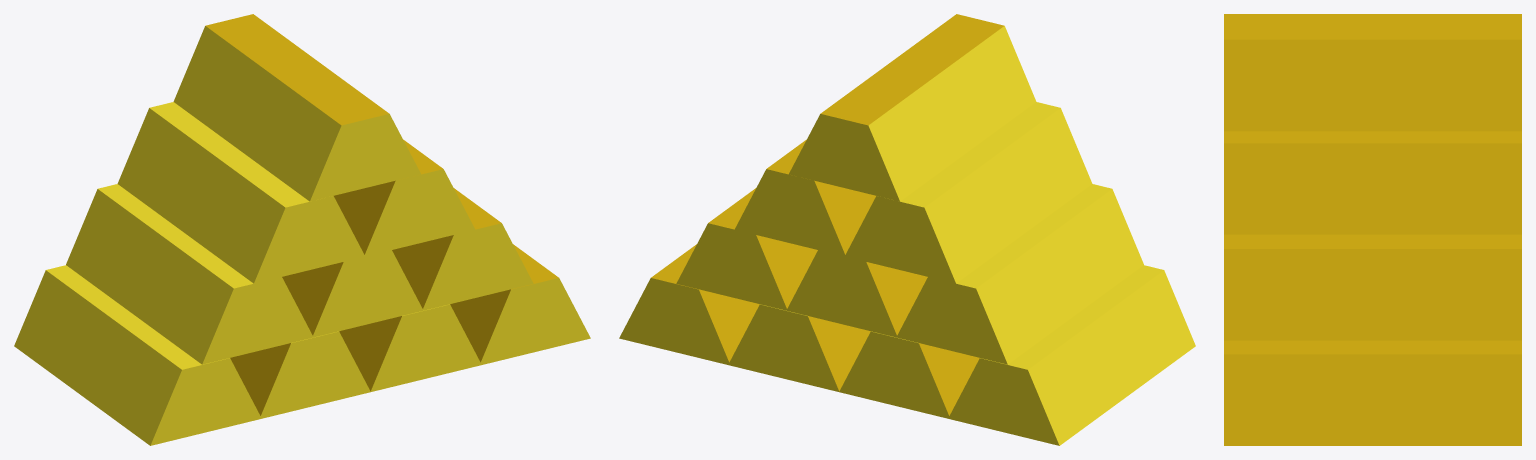
Rendered from Booty02.fbx.
3 renders of one model, left to right at view 1: azimuth 30°, elevation 25°; view 2: azimuth 150°, elevation 25°; view 3: azimuth 270°, elevation 25°, orthographic. The views are drawn at different scales.
Visible parts, largest first — view 1: Cube.009; view 2: Cube.009; view 3: Cube.009.
Part boxes in pixels (x1,y1,x2,y2): Cube.009: (14, 14, 590, 445); Cube.009: (619, 14, 1195, 445); Cube.009: (1224, 14, 1521, 445).
Bounding box in the file's own units: 85.03 × 50.49 × 45.57.
1 material, 1 textured.
